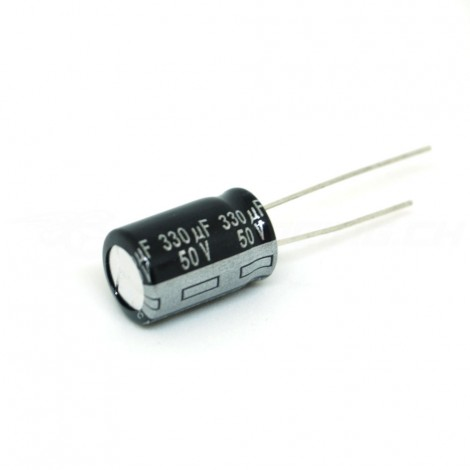capacitor: (67, 130, 315, 386)
